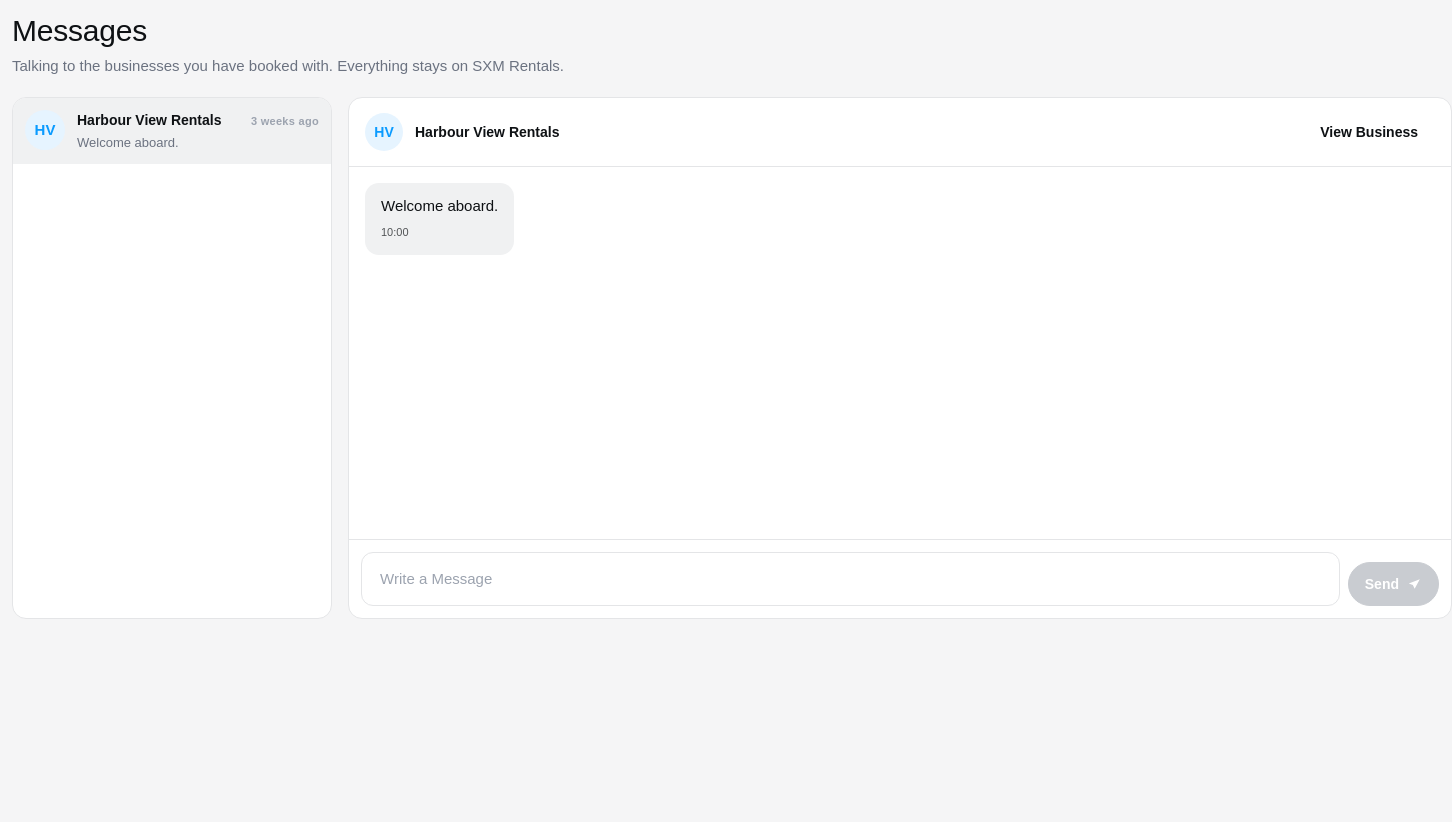
Test: messages › keeps a message in the box when it fails to send
In the field: (850, 579) [378,556,1323,602], type "Is it free next week?"
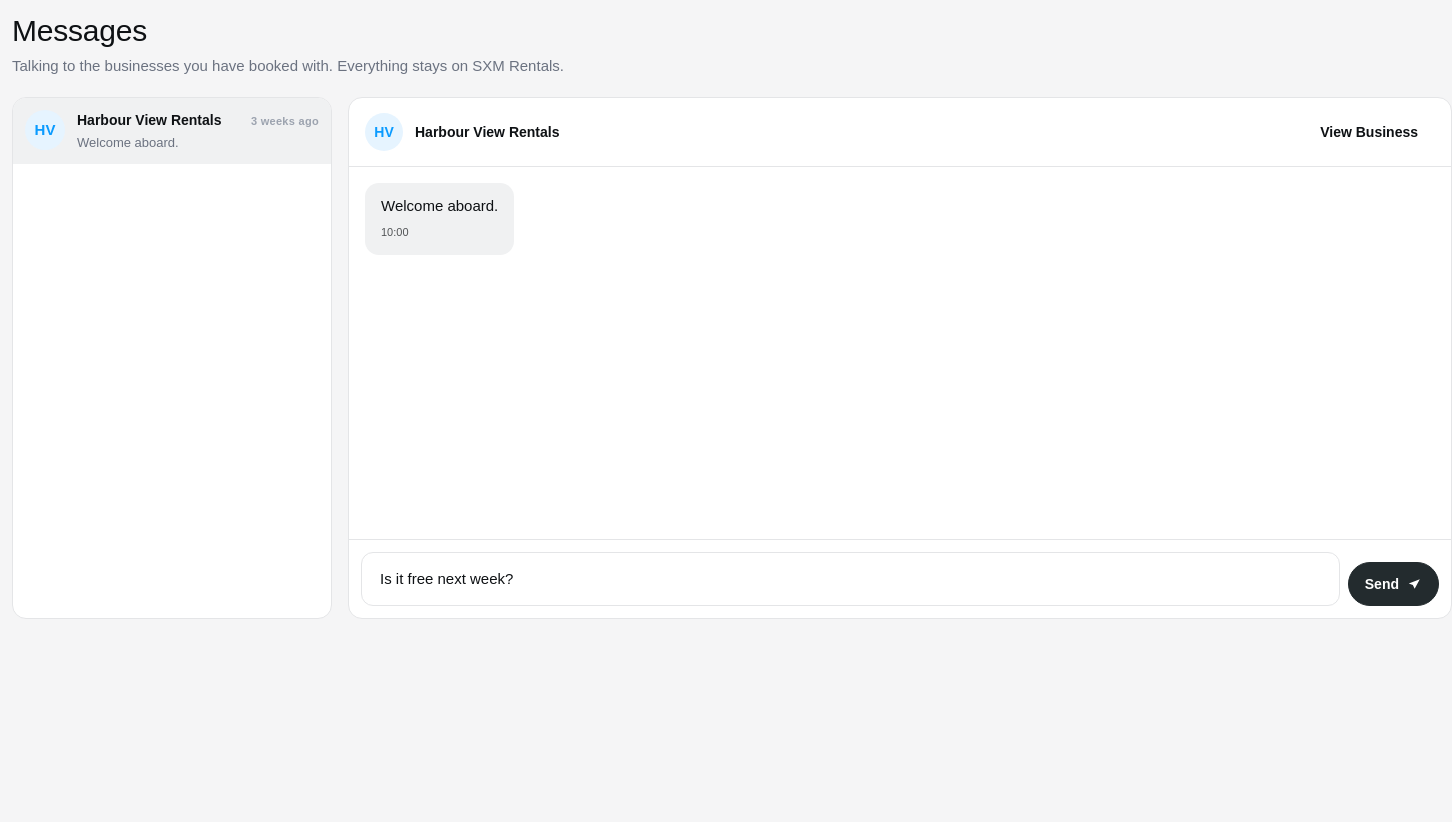
Submit the form, box [349,539,1451,618]
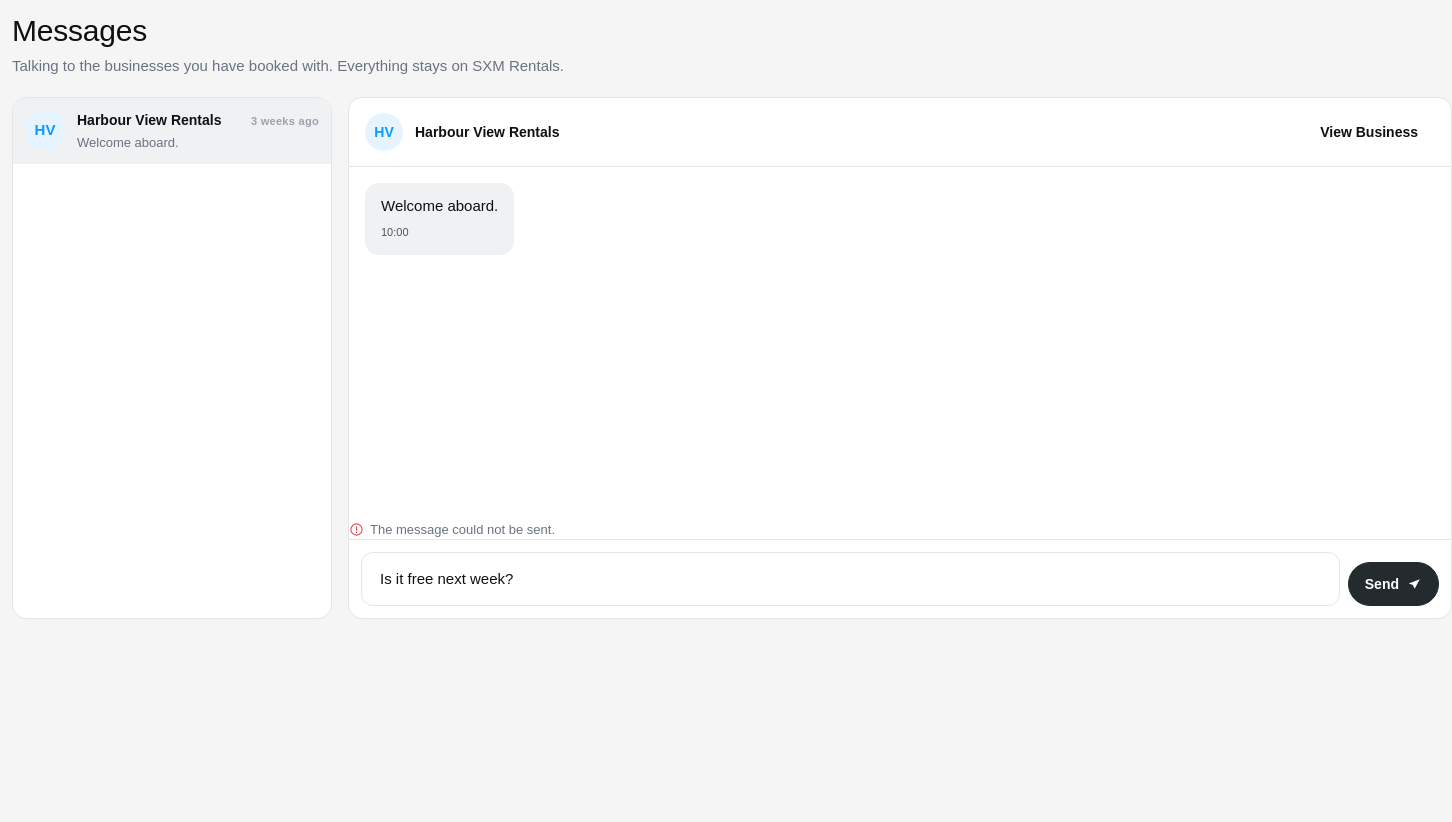
expect the message shows "could not be sent": met, box [370,522,555,537]
